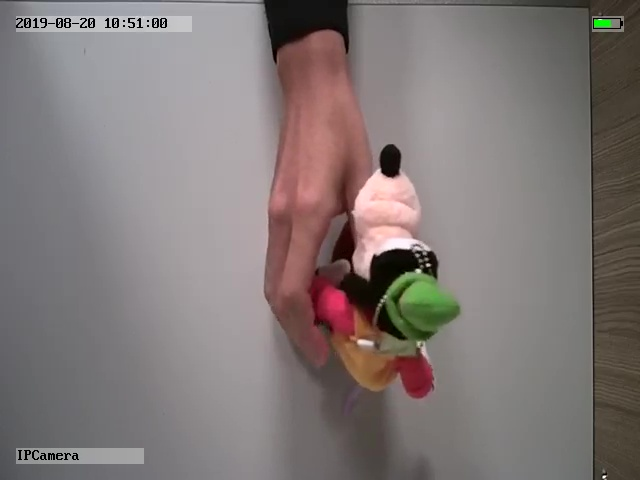goofy: (312, 143, 462, 400)
